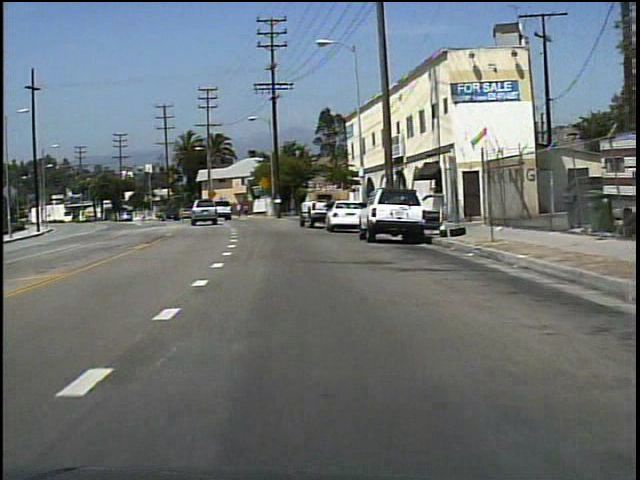person: (321, 194, 339, 231), (236, 199, 244, 220), (243, 202, 252, 219)
